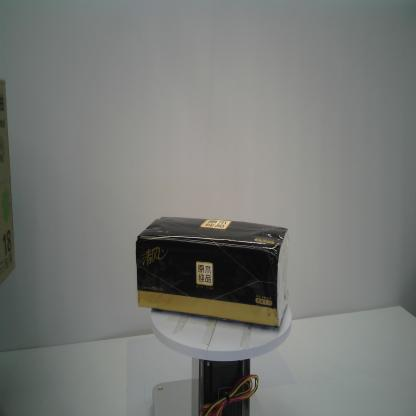Tissue: (134, 213, 291, 329)
